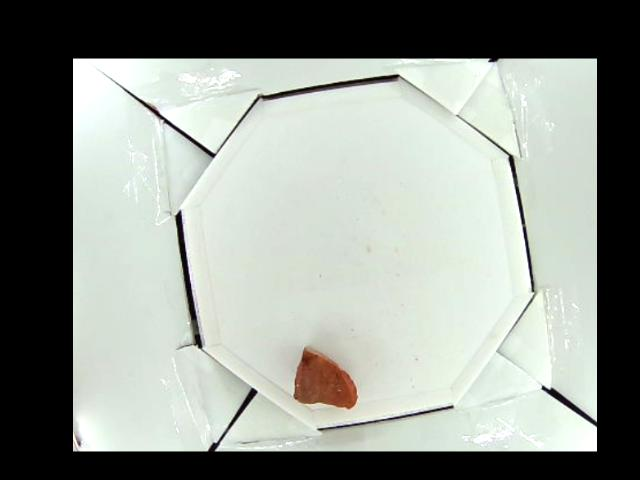Brisk: (292, 345, 356, 408)
